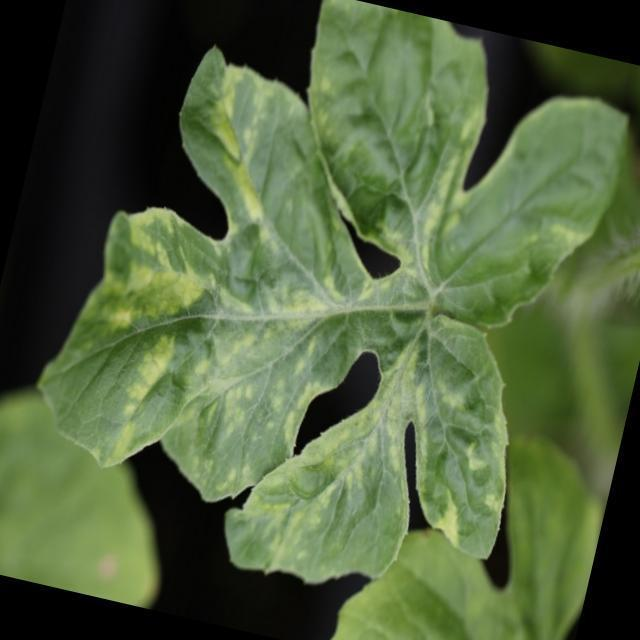Mosaic Virus: (13, 62, 463, 537), (378, 300, 546, 564), (252, 358, 429, 595)
